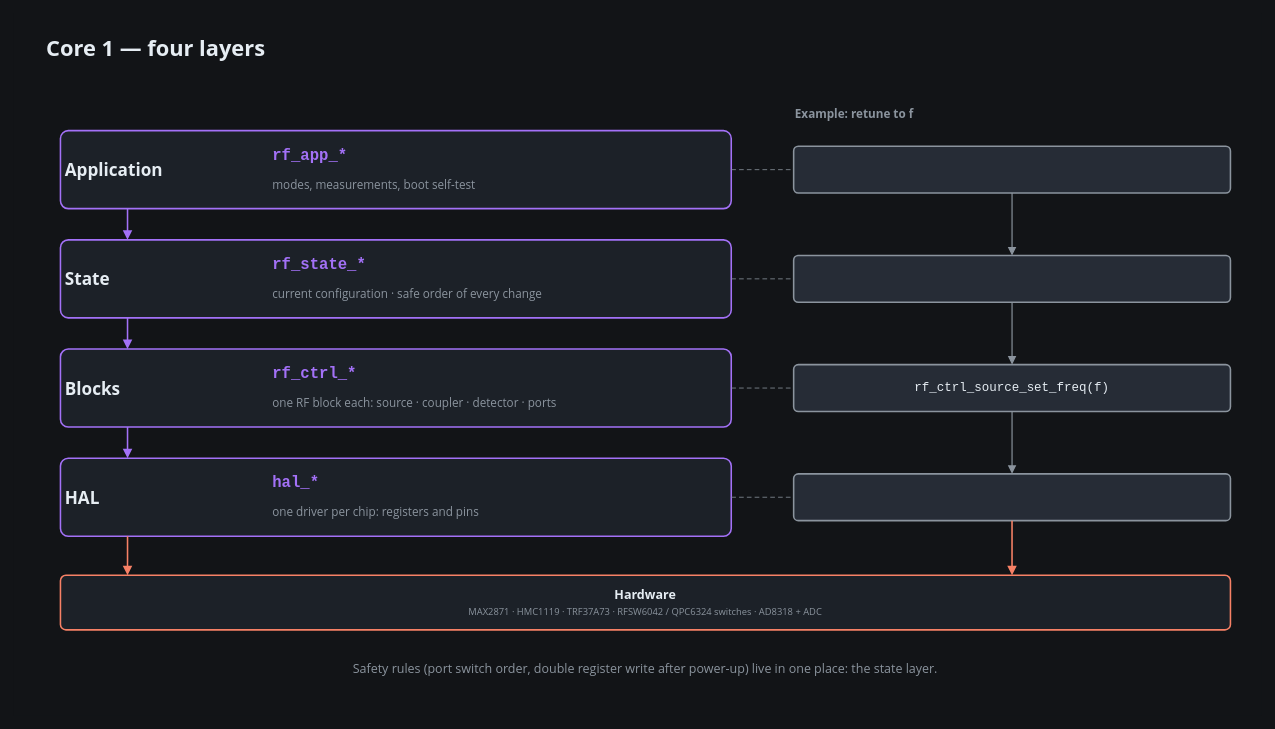
Some shapes in this 1275 by 729 pixel diagram are drawn without their labels. The shapes that lost their labels are listed below. From the top down, each one's centre as x and y in pixels, then its label:
At pixel 1011 169: "rf_app_sweep_point(f)".
At pixel 1011 278: "rf_state_set_freq(f)".
At pixel 1011 497: "hal_max2871_set_freq(f)".
